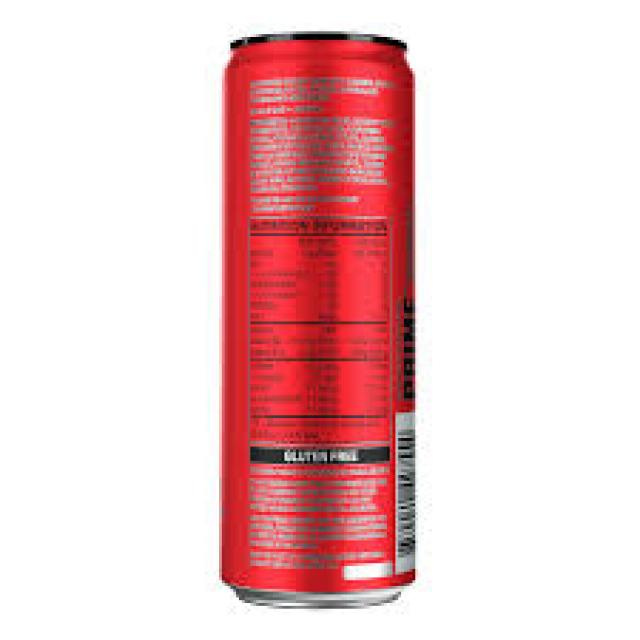Cans: (210, 23, 430, 617)
